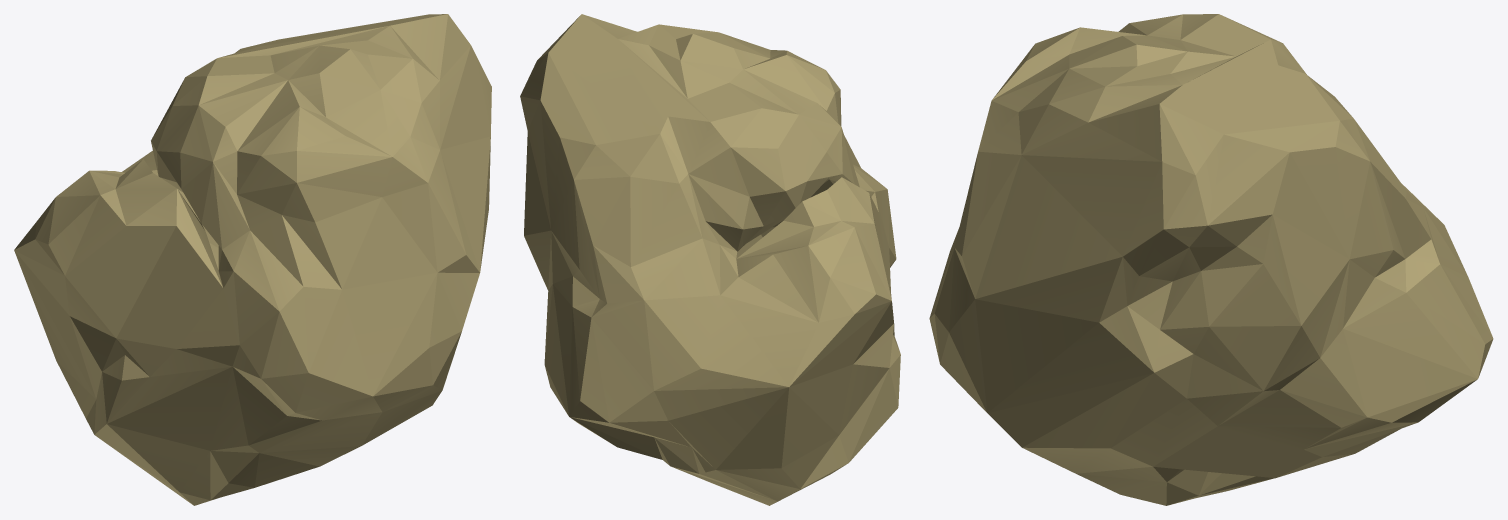
Rendered from SM_rock_02.fbx.
3 views of the same model, side by side, from view 1: azimuth 30°, elevation 25°; view 2: azimuth 150°, elevation 25°; view 3: azimuth 270°, elevation 25° (orthographic). The views are drawn at different scales.
Visible parts, largest first — view 1: rock_02; view 2: rock_02; view 3: rock_02.
Boxes of the visible parts, x1,y1,x2,y2 form: rock_02: [14, 14, 491, 505]; rock_02: [520, 14, 900, 505]; rock_02: [929, 14, 1493, 505].
Bounding box in the file's own units: 169 × 179 × 177.
